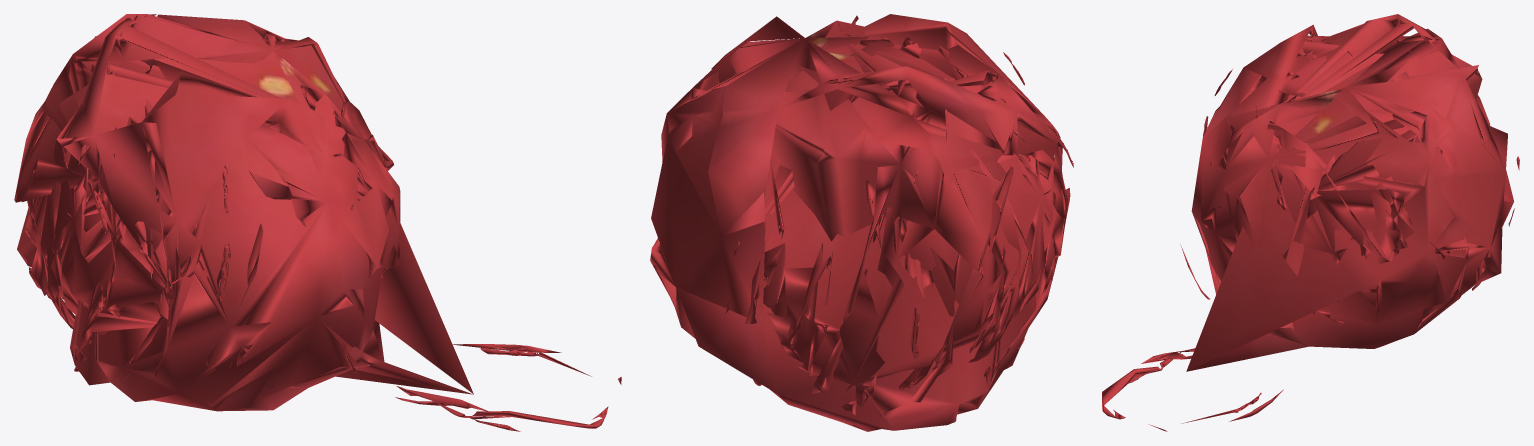
File: yarn.glb
The picture shows the model from 3 angles, left to right: view 1: azimuth 30°, elevation 25°; view 2: azimuth 150°, elevation 25°; view 3: azimuth 270°, elevation 25°; orthographic projection. The views are drawn at different scales.
Size of the model in its own units: 0.9454 by 0.6748 by 0.9145.
1 material, 1 textured.
